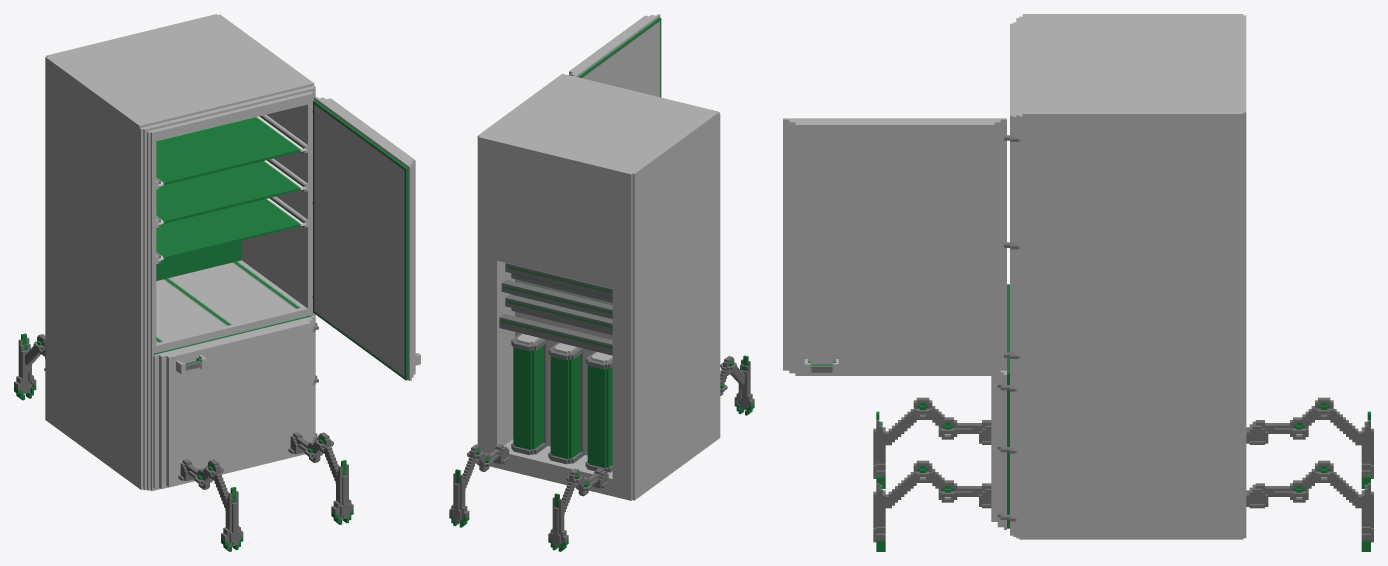
The model's file is Character-Enemies-6-FridgeEasy.fbx.
3 renders of one model, left to right at view 1: azimuth 30°, elevation 25°; view 2: azimuth 150°, elevation 25°; view 3: azimuth 270°, elevation 25°, orthographic. The views are drawn at different scales.
Parts seen in each view (by area): view 1: FridgeEasy; view 2: FridgeEasy; view 3: FridgeEasy.
Boxes of the visible parts, x1,y1,x2,y2 form: FridgeEasy: [14, 14, 420, 551]; FridgeEasy: [449, 14, 754, 551]; FridgeEasy: [783, 14, 1373, 551].
Bounding box in the file's own units: 82 × 161 × 190.
